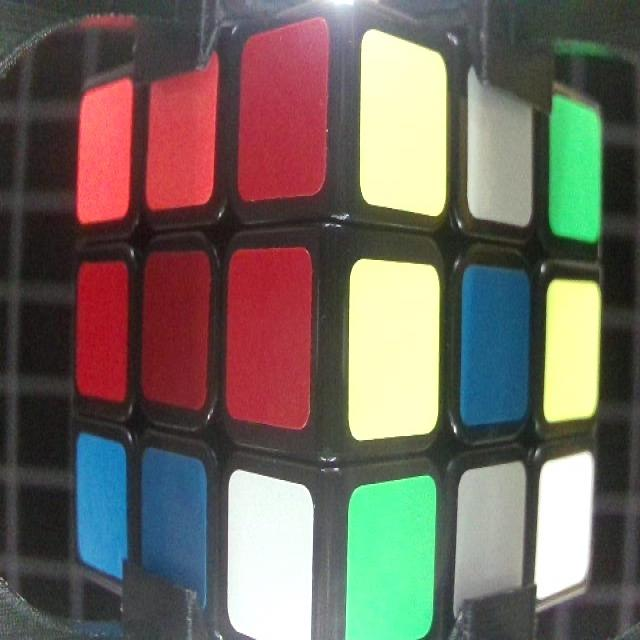b: (464, 265, 529, 422), (144, 450, 207, 610), (77, 434, 128, 576)
g: (343, 480, 438, 639), (547, 92, 596, 242)
o: (147, 57, 214, 204), (82, 78, 130, 224)
r: (228, 248, 308, 426), (240, 36, 326, 199), (145, 254, 205, 407), (77, 264, 126, 402)
w: (230, 469, 310, 640), (465, 66, 535, 224), (461, 466, 528, 622), (538, 451, 592, 596)
y: (357, 28, 449, 214), (352, 260, 436, 434), (550, 281, 598, 413)
